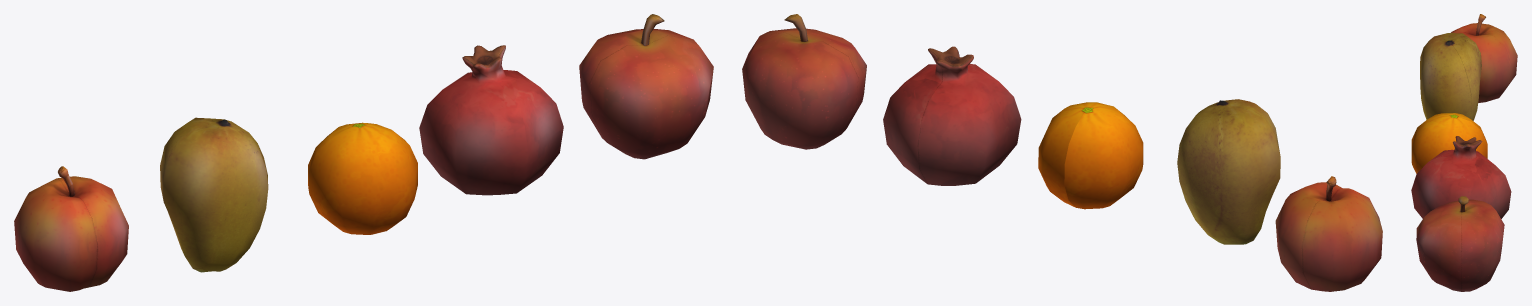
Rendered from fruits.fbx.
3 views of the same model, side by side, from view 1: azimuth 30°, elevation 25°; view 2: azimuth 150°, elevation 25°; view 3: azimuth 270°, elevation 25° (orthographic). The views are drawn at different scales.
Visible parts, largest first — view 1: Pomegranate.003, apple, Mango.008, peach, orange; view 2: Pomegranate.003, apple, Mango.008, peach, orange; view 3: apple, Pomegranate.003, Mango.008, peach, orange.
Part boxes in pixels (box(x1,y1,x2,y2)): Pomegranate.003: box(419, 45, 563, 195); apple: box(579, 14, 713, 159); Mango.008: box(160, 117, 268, 272); peach: box(14, 166, 128, 291); orange: box(308, 122, 417, 234); Pomegranate.003: box(883, 46, 1021, 185); apple: box(742, 14, 866, 149); Mango.008: box(1177, 99, 1280, 244); peach: box(1275, 176, 1382, 291); orange: box(1038, 102, 1143, 209); apple: box(1416, 196, 1504, 291); Pomegranate.003: box(1411, 136, 1511, 218); Mango.008: box(1420, 33, 1481, 120); peach: box(1451, 14, 1517, 102); orange: box(1411, 113, 1487, 173).
Bounding box in the file's own units: 0.8027 × 0.1697 × 0.1581.
Materials: 2 (2 with a texture image).
